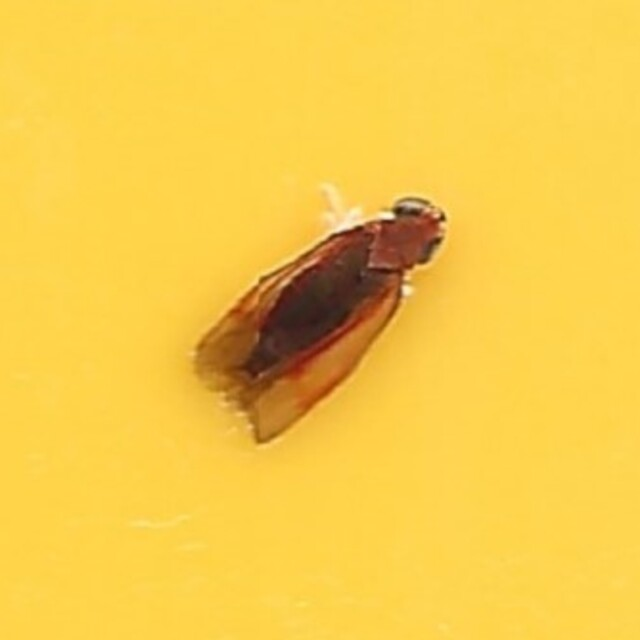Hemiptera: (192, 195, 448, 445)
